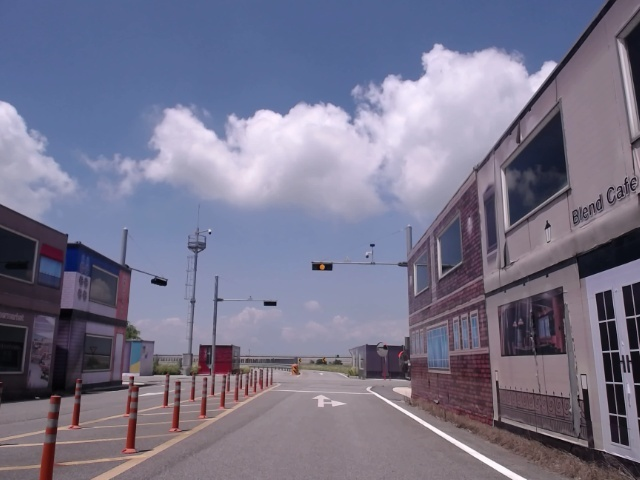orange_3: (313, 262, 333, 270)
